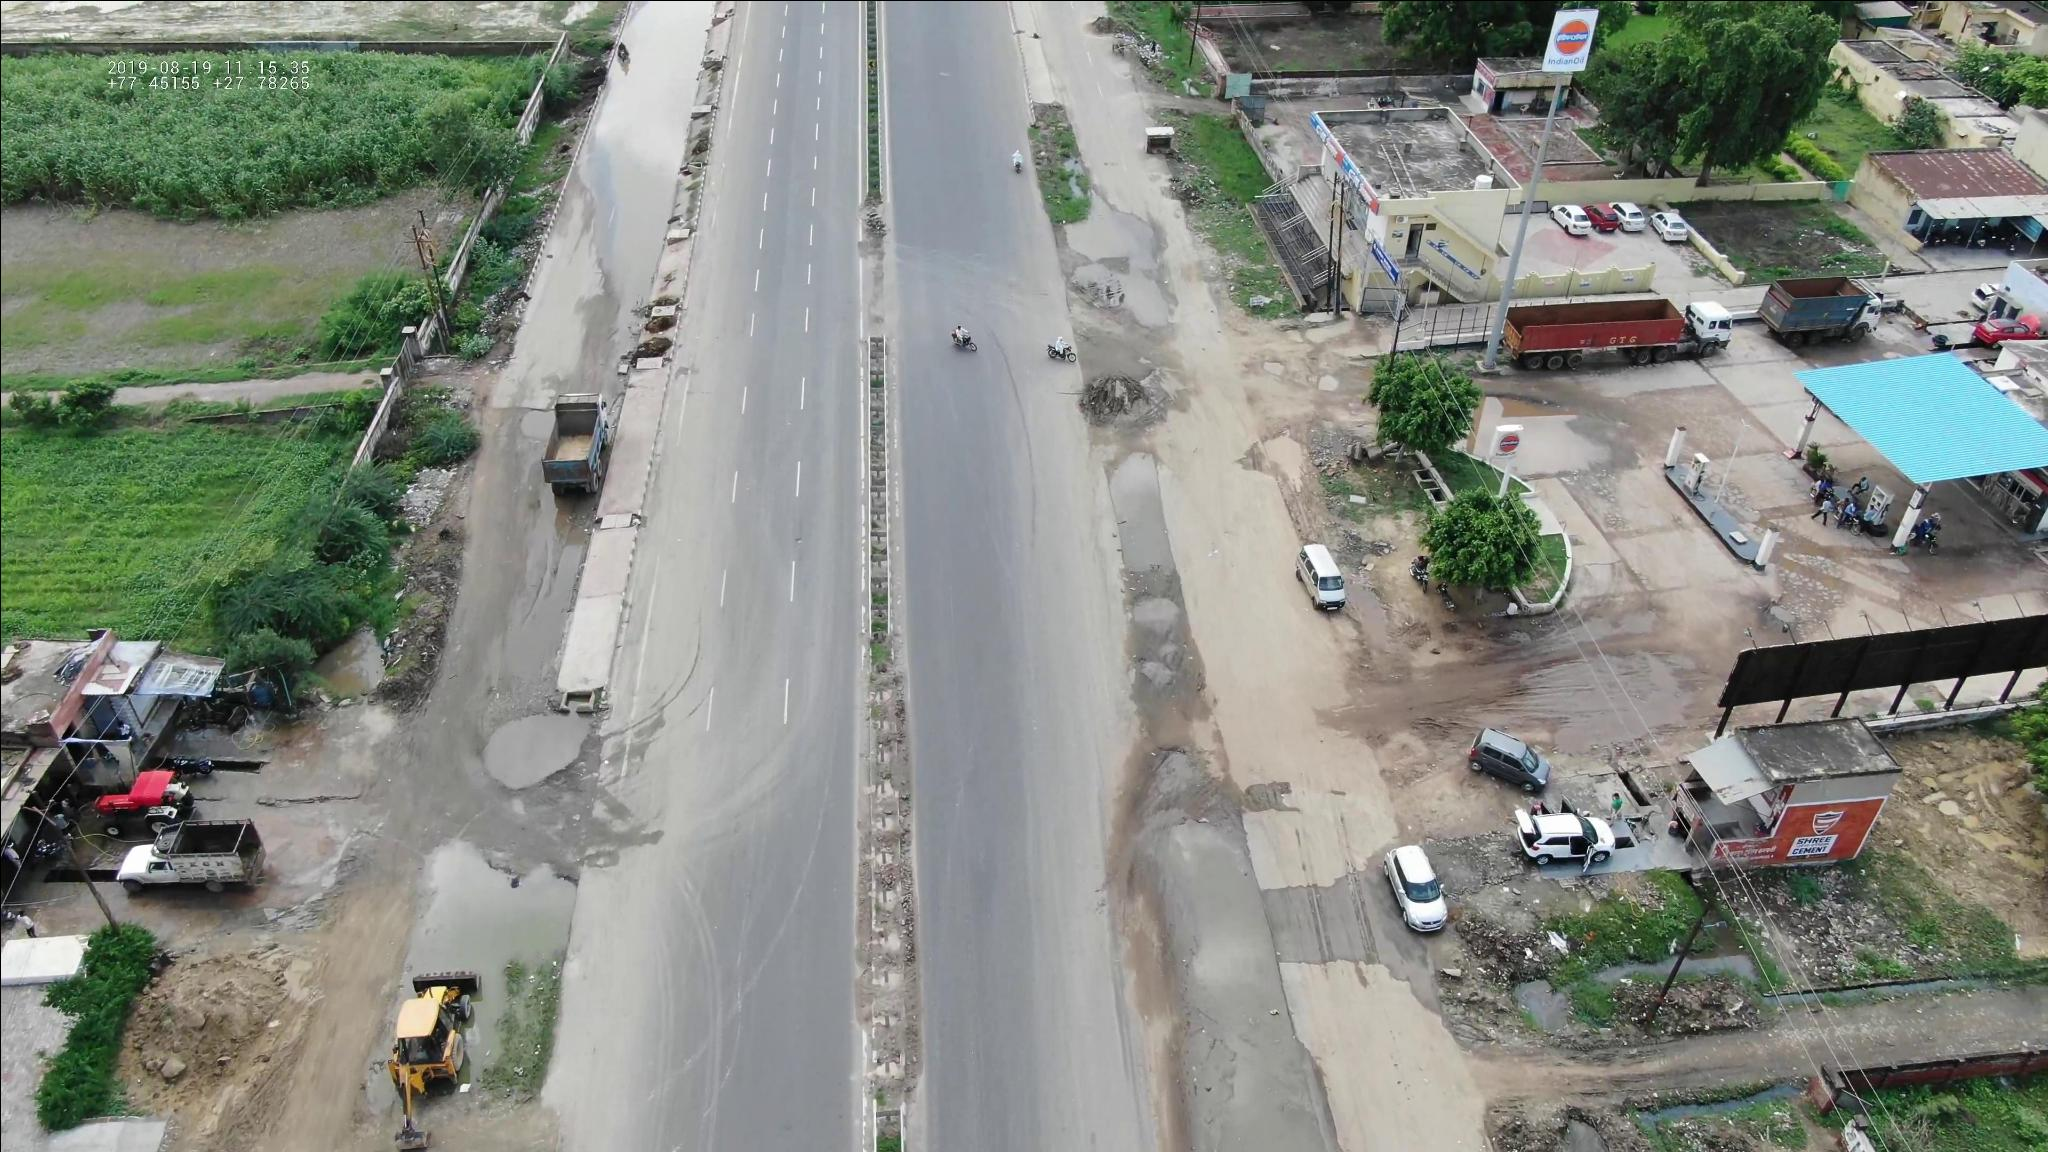Potholes: (461, 689, 616, 789), (1115, 578, 1184, 699)
